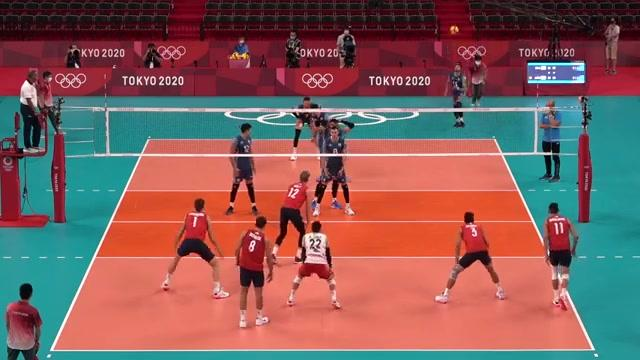ball: (451, 24, 461, 35)
